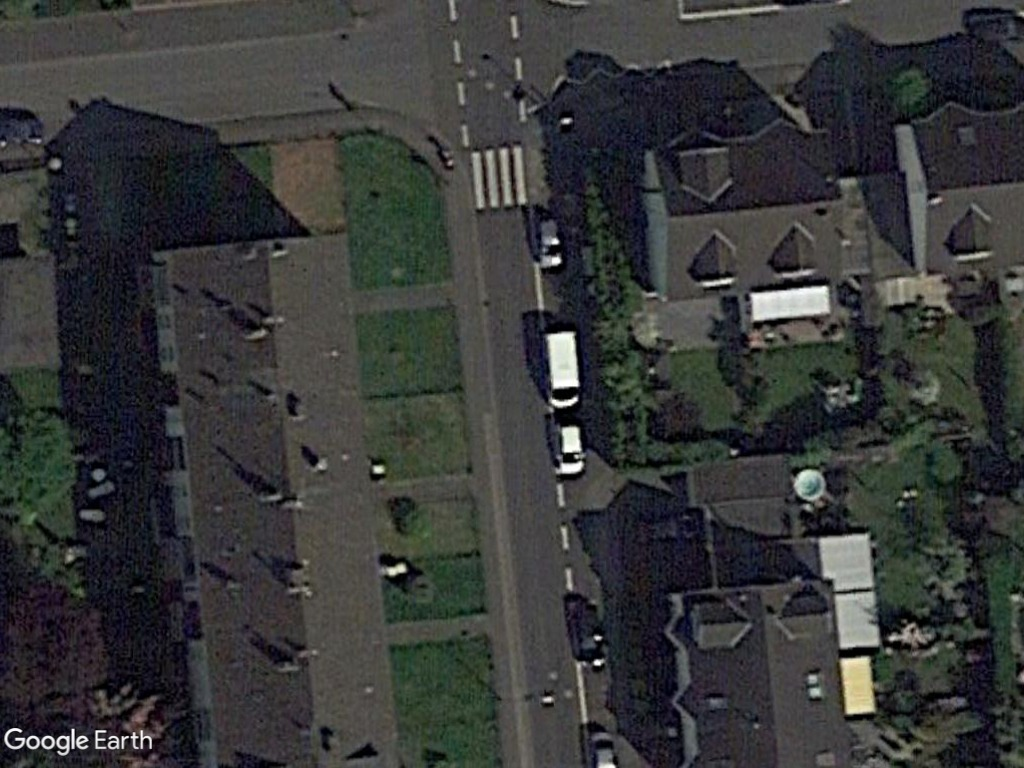car: (543, 416, 589, 481)
van: (537, 320, 585, 421)
